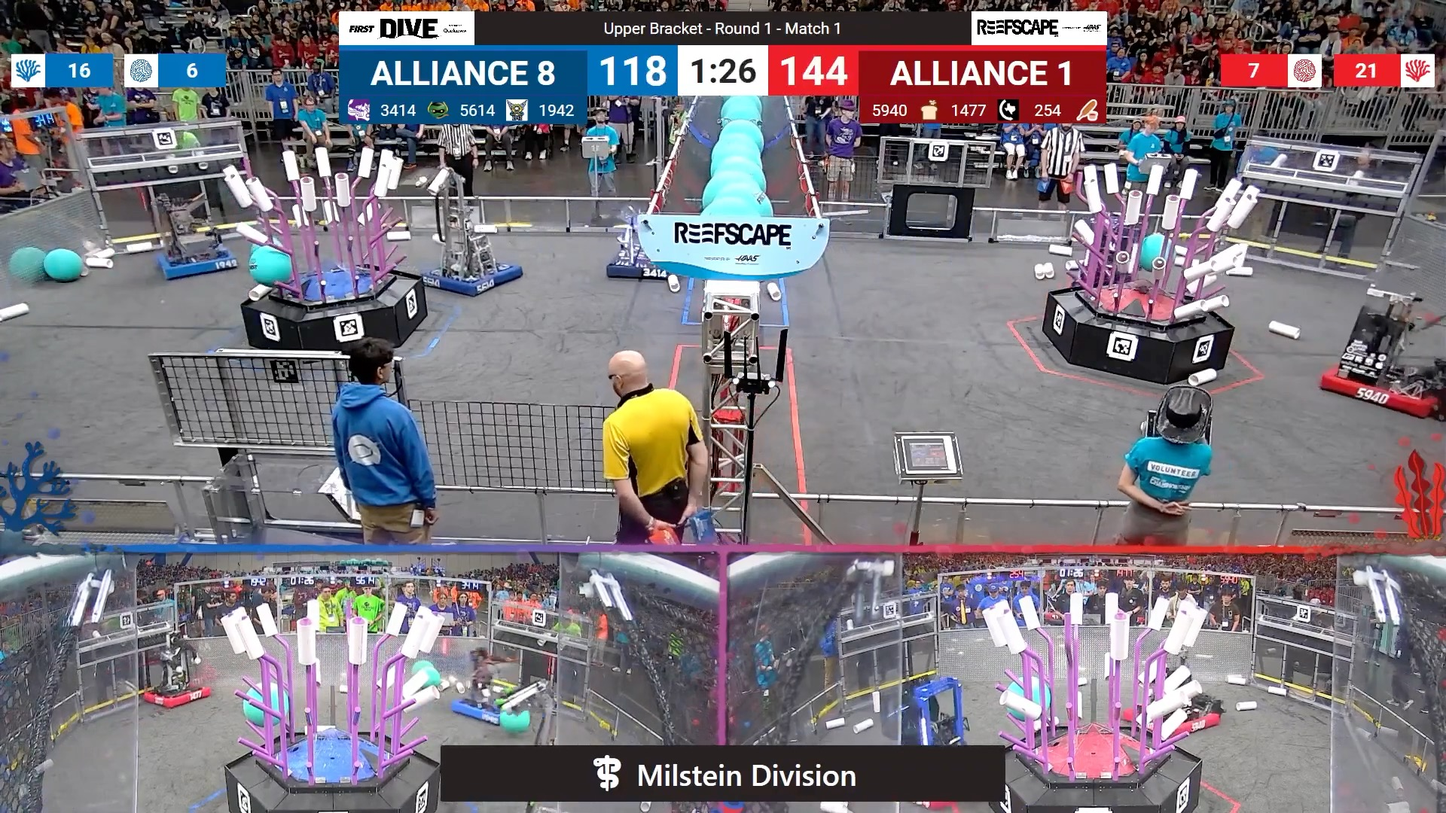bumpers: (1307, 351, 1441, 421), (1123, 695, 1223, 747), (414, 256, 534, 299), (442, 687, 542, 733), (147, 242, 244, 286), (137, 681, 217, 714), (602, 253, 675, 282)
